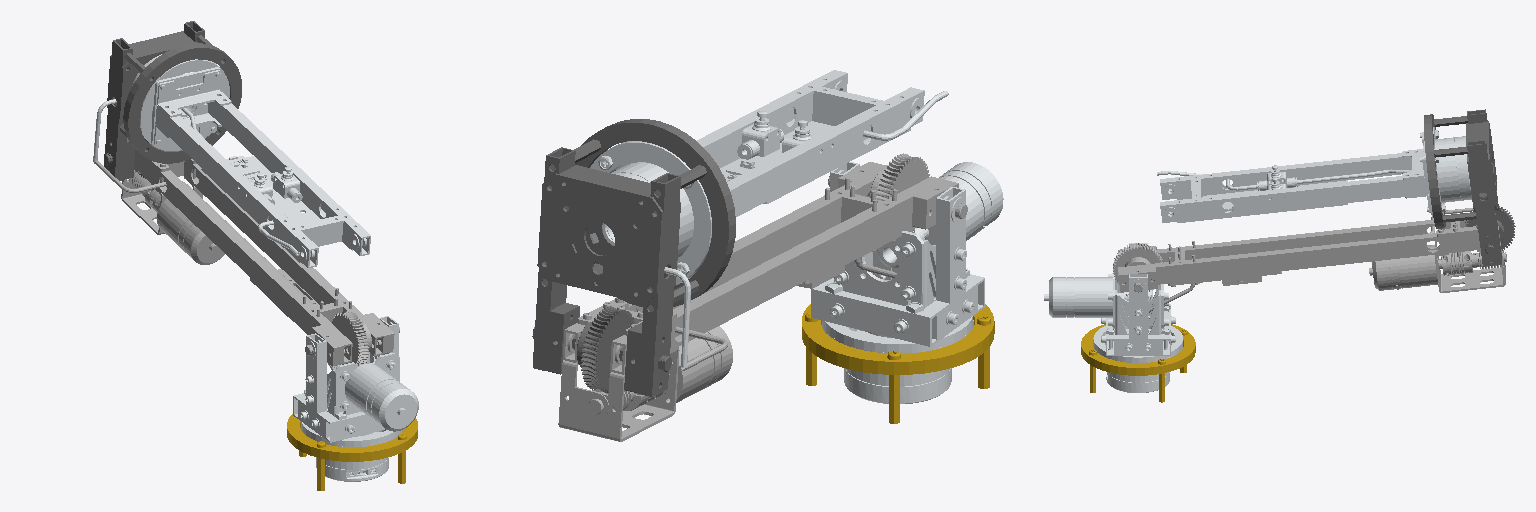
The robot description file, URDF, robot "gold_miner_robot":
<?xml version="1.0" encoding="utf-8"?>
<!-- This URDF was automatically created by SolidWorks to URDF Exporter! Originally created by [author] ([email redacted]) 
     Commit Version: 1.6.0-1-g15f4949  Build Version: 1.6.7594.29634
     For more information, please see http://wiki.ros.org/sw_urdf_exporter -->
<robot
  name="gold_miner_robot">
  <link
    name="base">
    <inertial>
      <origin
        xyz="2.5768E-11 6.9944E-15 -0.011533"
        rpy="0 0 0" />
      <mass
        value="0.11676" />
      <inertia
        ixx="0.00014497"
        ixy="1.8246E-20"
        ixz="1.6654E-21"
        iyy="0.00014497"
        iyz="-2.4266E-21"
        izz="0.00028671" />
    </inertial>
    <visual>
      <origin
        xyz="0 0 0"
        rpy="0 0 0" />
      <geometry>
        <mesh
          filename="package://gold_miner_robot/meshes/base.STL" />
      </geometry>
      <material
        name="">
        <color
          rgba="0.83137 0.67059 0.12941 1" />
      </material>
    </visual>
    <collision>
      <origin
        xyz="0 0 0"
        rpy="0 0 0" />
      <geometry>
        <mesh
          filename="package://gold_miner_robot/meshes/base.STL" />
      </geometry>
    </collision>
  </link>
  <link
    name="base_joint">
    <inertial>
      <origin
        xyz="-0.0009956 -0.021775 0.016253"
        rpy="0 0 0" />
      <mass
        value="0.98759" />
      <inertia
        ixx="0.00035371"
        ixy="2.8816E-07"
        ixz="1.0067E-07"
        iyy="0.00032502"
        iyz="5.0562E-07"
        izz="0.00045929" />
    </inertial>
    <visual>
      <origin
        xyz="0 0 0"
        rpy="0 0 0" />
      <geometry>
        <mesh
          filename="package://gold_miner_robot/meshes/base_joint.STL" />
      </geometry>
      <material
        name="">
        <color
          rgba="0.89804 0.91765 0.92941 1" />
      </material>
    </visual>
    <collision>
      <origin
        xyz="0 0 0"
        rpy="0 0 0" />
      <geometry>
        <mesh
          filename="package://gold_miner_robot/meshes/base_joint.STL" />
      </geometry>
    </collision>
  </link>
  <joint
    name="base_joint"
    type="revolute">
    <origin
      xyz="0 0 0"
      rpy="0 0 0" />
    <parent
      link="base" />
    <child
      link="base_joint" />
    <axis
      xyz="0 0 1" />
    <limit
      lower="-3.14"
      upper="3.14"
      effort="150"
      velocity="5" />
    <calibration
      rising="0"
      falling="0" />
    <dynamics
      damping="0"
      friction="0" />
  </joint>
  <link
    name="shoulder_joint">
    <inertial>
      <origin
        xyz="0.19156 0.0023594 0.002667"
        rpy="0 0 0" />
      <mass
        value="0.83124" />
      <inertia
        ixx="0.00019357"
        ixy="-8.1355E-06"
        ixz="-0.00011829"
        iyy="0.0011102"
        iyz="-1.273E-06"
        izz="0.0010673" />
    </inertial>
    <visual>
      <origin
        xyz="0 0 0"
        rpy="0 0 0" />
      <geometry>
        <mesh
          filename="package://gold_miner_robot/meshes/shoulder_joint.STL" />
      </geometry>
      <material
        name="">
        <color
          rgba="0.75294 0.75294 0.75294 1" />
      </material>
    </visual>
    <collision>
      <origin
        xyz="0 0 0"
        rpy="0 0 0" />
      <geometry>
        <mesh
          filename="package://gold_miner_robot/meshes/shoulder_joint.STL" />
      </geometry>
    </collision>
  </link>
  <joint
    name="shoulder_joint"
    type="revolute">
    <origin
      xyz="0 0 0.08"
      rpy="0 0 1.5708" />
    <parent
      link="base_joint" />
    <child
      link="shoulder_joint" />
    <axis
      xyz="0 -1 0" />
    <limit
      lower="-3.14"
      upper="3.14"
      effort="150"
      velocity="5" />
    <calibration
      rising="0"
      falling="0" />
    <dynamics
      damping="0"
      friction="0" />
  </joint>
  <link
    name="elbow_joint">
    <inertial>
      <origin
        xyz="0.012668 -0.0013346 0.028552"
        rpy="0 0 0" />
      <mass
        value="0.39061" />
      <inertia
        ixx="0.00038987"
        ixy="4.5103E-16"
        ixz="-1.9132E-14"
        iyy="0.00024933"
        iyz="-1.9483E-08"
        izz="0.00020385" />
    </inertial>
    <visual>
      <origin
        xyz="0 0 0"
        rpy="0 0 0" />
      <geometry>
        <mesh
          filename="package://gold_miner_robot/meshes/elbow_joint.STL" />
      </geometry>
      <material
        name="">
        <color
          rgba="0.49804 0.49804 0.49804 1" />
      </material>
    </visual>
    <collision>
      <origin
        xyz="0 0 0"
        rpy="0 0 0" />
      <geometry>
        <mesh
          filename="package://gold_miner_robot/meshes/elbow_joint.STL" />
      </geometry>
    </collision>
  </link>
  <joint
    name="elbow_joint"
    type="revolute">
    <origin
      xyz="0.36739 0 0.043869"
      rpy="0 0.11885 3.1416" />
    <parent
      link="shoulder_joint" />
    <child
      link="elbow_joint" />
    <axis
      xyz="0 1 0" />
    <limit
      lower="3.14"
      upper="-3.14"
      effort="150"
      velocity="5" />
    <calibration
      rising="0"
      falling="0" />
    <dynamics
      damping="0"
      friction="0" />
  </joint>
  <link
    name="wrist_joint_1">
    <inertial>
      <origin
        xyz="0.00032538 0.0068003 0.12894"
        rpy="0 0 0" />
      <mass
        value="0.61324" />
      <inertia
        ixx="0.00063368"
        ixy="-2.8396E-07"
        ixz="9.4741E-07"
        iyy="0.00067814"
        iyz="-3.803E-06"
        izz="0.00036527" />
    </inertial>
    <visual>
      <origin
        xyz="0 0 0"
        rpy="0 0 0" />
      <geometry>
        <mesh
          filename="package://gold_miner_robot/meshes/wrist_joint_1.STL" />
      </geometry>
      <material
        name="">
        <color
          rgba="0.89804 0.91765 0.92941 1" />
      </material>
    </visual>
    <collision>
      <origin
        xyz="0 0 0"
        rpy="0 0 0" />
      <geometry>
        <mesh
          filename="package://gold_miner_robot/meshes/wrist_joint_1.STL" />
      </geometry>
    </collision>
  </link>
  <joint
    name="wrist_joint_1"
    type="revolute">
    <origin
      xyz="0 0 0.075"
      rpy="1.5708 0 1.5708" />
    <parent
      link="elbow_joint" />
    <child
      link="wrist_joint_1" />
    <axis
      xyz="0 0 -1" />
    <limit
      lower="-3.14"
      upper="3.14"
      effort="150"
      velocity="5" />
    <calibration
      rising="0"
      falling="0" />
    <dynamics
      damping="0"
      friction="0" />
  </joint>
  <link
    name="wrist_joint_2">
    <inertial>
      <origin
        xyz="0.14718 0.0021493 -0.035964"
        rpy="0 0 0" />
      <mass
        value="2.4957" />
      <inertia
        ixx="0.15459"
        ixy="3.317E-10"
        ixz="-0.0027381"
        iyy="0.012051"
        iyz="2.0368E-06"
        izz="0.151" />
    </inertial>
    <visual>
      <origin
        xyz="0 0 0"
        rpy="0 0 0" />
      <geometry>
        <mesh
          filename="package://gold_miner_robot/meshes/wrist_joint_2.STL" />
      </geometry>
      <material
        name="">
        <color
          rgba="0.75294 0.75294 0.75294 1" />
      </material>
    </visual>
    <collision>
      <origin
        xyz="0 0 0"
        rpy="0 0 0" />
      <geometry>
        <mesh
          filename="package://gold_miner_robot/meshes/wrist_joint_2.STL" />
      </geometry>
    </collision>
  </link>
  <joint
    name="wrist_joint_2"
    type="revolute">
    <origin
      xyz="0 0 0.327"
      rpy="-0.013655 -1.5708 1.5708" />
    <parent
      link="wrist_joint_1" />
    <child
      link="wrist_joint_2" />
    <axis
      xyz="0 1 0" />
    <limit
      lower="-3.14"
      upper="3.14"
      effort="150"
      velocity="5" />
    <calibration
      rising="0"
      falling="0" />
    <dynamics
      damping="0"
      friction="0" />
  </joint>
</robot>

--- What the picture shows (computed from the rendered views, not written in the file) ---
3 views of the same robot in one strip: view 1: azimuth 30°, elevation 25°; view 2: azimuth 150°, elevation 25°; view 3: azimuth 270°, elevation 25° (orthographic).
Model gold_miner_robot with 6 links and 5 joints (5 revolute), rooted at base, posed every joint at zero.
Links seen in each view (by area): view 1: wrist_joint_1, shoulder_joint, base_joint, elbow_joint, base; view 2: elbow_joint, shoulder_joint, wrist_joint_1, base_joint, base; view 3: shoulder_joint, wrist_joint_1, base_joint, elbow_joint, base.
Link boxes in pixels (<box>): wrist_joint_1: <box>93,54,370,267</box>; shoulder_joint: <box>94,149,399,369</box>; base_joint: <box>293,316,418,481</box>; elbow_joint: <box>104,21,241,180</box>; base: <box>287,414,417,490</box>; elbow_joint: <box>532,119,735,396</box>; shoulder_joint: <box>558,153,967,441</box>; wrist_joint_1: <box>590,70,948,367</box>; base_joint: <box>811,162,1003,403</box>; base: <box>802,304,994,423</box>; shoulder_joint: <box>1113,208,1506,332</box>; wrist_joint_1: <box>1157,127,1471,222</box>; base_joint: <box>1044,243,1182,392</box>; elbow_joint: <box>1424,109,1515,266</box>; base: <box>1081,324,1195,402</box>.
Size in the robot's own frame: 0.1207 by 0.492 by 0.3026 metres.
Meshes: 6 distinct files referenced, 5 mesh visuals loaded (5 binary STL); not drawn: 1 (reference not matched to a file when rendering).